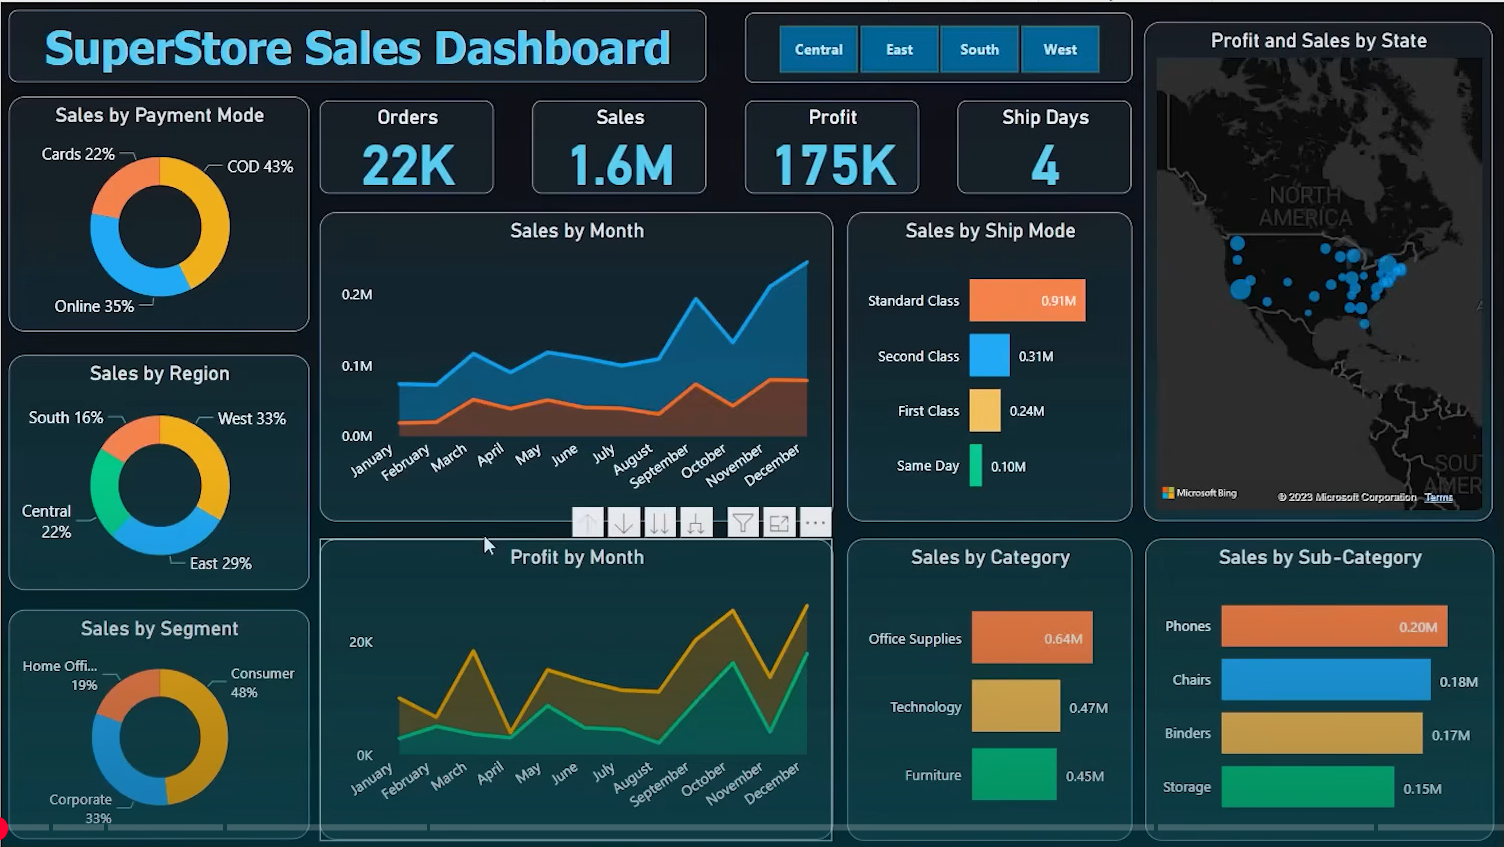

What the dashboard file says about the page in this screenshot:
{"tool":"powerbi","page":{"name":"Dashboard","canvas":[1280,720],"ordinal":0},"visuals":[{"type":"textbox","box":[21.7,10.9,545.3,66.4],"z":0},{"type":"barChart","title":"Sales by Ship Mode","fields":{"Category":["Sheet1.Ship Mode"],"Y":["Sum(Sheet1.Sales)"]},"box":[721.5,188.2,240.1,244.9],"z":1000},{"type":"barChart","title":"Sales by Sub-Category","fields":{"Category":["Sheet1.Sub-Category"],"Y":["Sum(Sheet1.Sales)"]},"box":[720.2,456,240.1,244.9],"z":2000},{"type":"barChart","title":"Sales by Category","fields":{"Y":["Sum(Sheet1.Sales)"],"Category":["Sheet1.Category"]},"box":[986.9,456,282.3,240.1],"z":3000},{"type":"map","title":"Sales by States","fields":{"Category":["Sheet1.State"],"Size":["Sum(Sheet1.Sales)"]},"box":[986.9,13.3,282.3,419.8],"z":4000},{"type":"stackedAreaChart","title":"Sales by Month YoY","fields":{"Y":["Sum(Sheet1.Sales)"],"Category":["Sheet1.Order Date.Variation.Date Hierarchy.Month"],"Series":["Sheet1.Order Date.Variation.Date Hierarchy.Year"]},"box":[294.4,188.2,400.5,244.9],"z":5000},{"type":"stackedAreaChart","title":"Profit By Month YoY","fields":{"Category":["Sheet1.Order Date.Variation.Date Hierarchy.Month"],"Series":["Sheet1.Order Date.Variation.Date Hierarchy.Year"],"Y":["Sum(Sheet1.Profit)"]},"box":[294.4,456,400.5,245],"z":6000},{"type":"slicer","title":"Region","fields":{"Values":["Sheet1.Region"]},"box":[582.7,10.9,384.9,63.9],"z":7000},{"type":"donutChart","title":"Payment Methods ","fields":{"Category":["Sheet1.Payment Mode"],"Y":["Sum(Sheet1.Sales)"]},"box":[22.9,90.5,257,195.4],"z":8000},{"type":"donutChart","title":"Sales by Region","fields":{"Category":["Sheet1.Region"],"Y":["Sum(Sheet1.Sales)"]},"box":[22.9,298,257,195],"z":9000},{"type":"card","title":"Ship Days","fields":{"Values":["Avg(Sheet1.AvgDelivery)"]},"box":[825.2,90.5,135.1,74.8],"z":10000},{"type":"card","title":"Profit","fields":{"Values":["Sum(Sheet1.Profit)"]},"box":[639.4,90.5,135.1,74.8],"z":11000},{"type":"card","title":"Orders","fields":{"Values":["Sum(Sheet1.Quantity)"]},"box":[292,90.5,135.1,74.8],"z":12000},{"type":"card","title":"Sales","fields":{"Values":["Sum(Sheet1.Sales)"]},"box":[466.9,90.5,135.1,74.8],"z":13000},{"type":"donutChart","title":"Sales by Segment","fields":{"Category":["Sheet1.Segment"],"Y":["Sum(Sheet1.Sales)"]},"box":[22.9,505.5,257,195.4],"z":14000}]}

Visuals, with their boxes in screenshot pixels (x1, y1, x2, y2), scaled from the page's 1280x720 canvas onto the 1504x847 screenshot:
textbox: 25:13:666:91
"Sales by Ship Mode" barChart: 848:221:1130:509
"Sales by Sub-Category" barChart: 846:536:1128:825
"Sales by Category" barChart: 1160:536:1491:819
"Sales by States" map: 1160:16:1491:509
"Sales by Month YoY" stackedAreaChart: 346:221:817:509
"Profit By Month YoY" stackedAreaChart: 346:536:817:825
"Region" slicer: 685:13:1137:88
"Payment Methods " donutChart: 27:106:329:336
"Sales by Region" donutChart: 27:351:329:580
"Ship Days" card: 970:106:1128:194
"Profit" card: 751:106:910:194
"Orders" card: 343:106:502:194
"Sales" card: 549:106:707:194
"Sales by Segment" donutChart: 27:595:329:825
